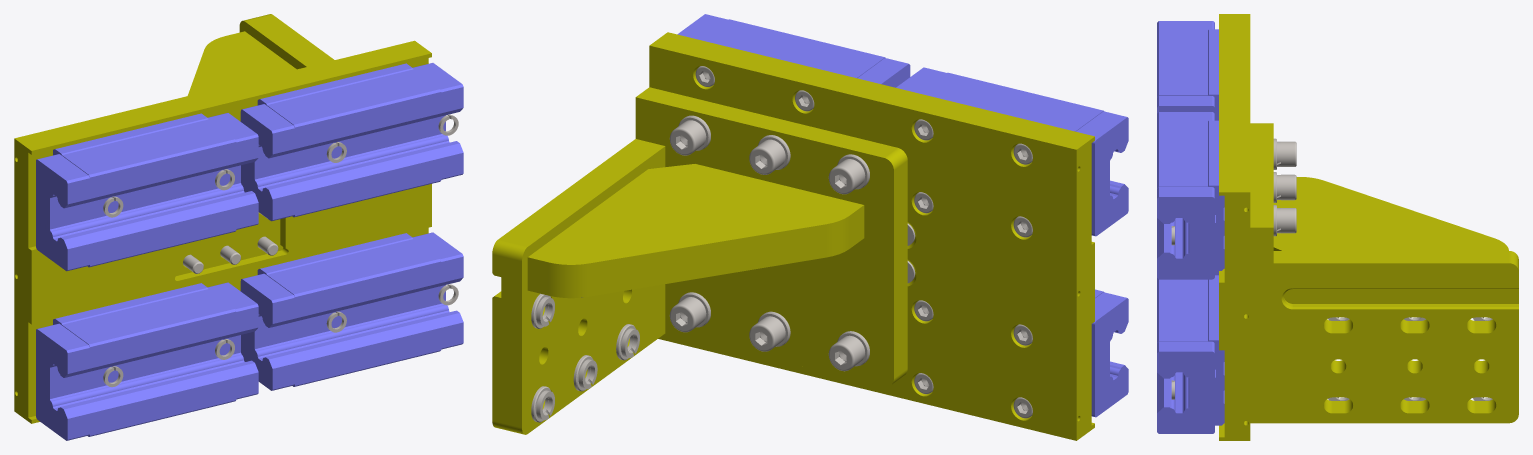
File: MainPart.obj
3 renders of one model, left to right at view 1: azimuth 30°, elevation 25°; view 2: azimuth 150°, elevation 25°; view 3: azimuth 270°, elevation 25°, orthographic. The views are drawn at different scales.
Visible parts, largest first — view 1: ¼в¿·/Íä¹Ü»úÍ·.STEP/________.STEP-0.STEP/SFA1-003G-073A-2000 ____; view 2: ¼в¿·/Íä¹Ü»úÍ·.STEP/________.STEP-0.STEP/SFA1-003G-073A-2000 ____; view 3: ¼в¿·/Íä¹Ü»úÍ·.STEP/________.STEP-0.STEP/SFA1-003G-073A-2000 ____.
Part boxes in pixels (box(x1,y1,x2,y2)): ¼в¿·/Íä¹Ü»úÍ·.STEP/________.STEP-0.STEP/SFA1-003G-073A-2000 ____: box(14, 14, 463, 440); ¼в¿·/Íä¹Ü»úÍ·.STEP/________.STEP-0.STEP/SFA1-003G-073A-2000 ____: box(492, 14, 1128, 440); ¼в¿·/Íä¹Ü»úÍ·.STEP/________.STEP-0.STEP/SFA1-003G-073A-2000 ____: box(1157, 14, 1518, 440).
Bounding box in the file's own units: 215 × 140 × 184.
